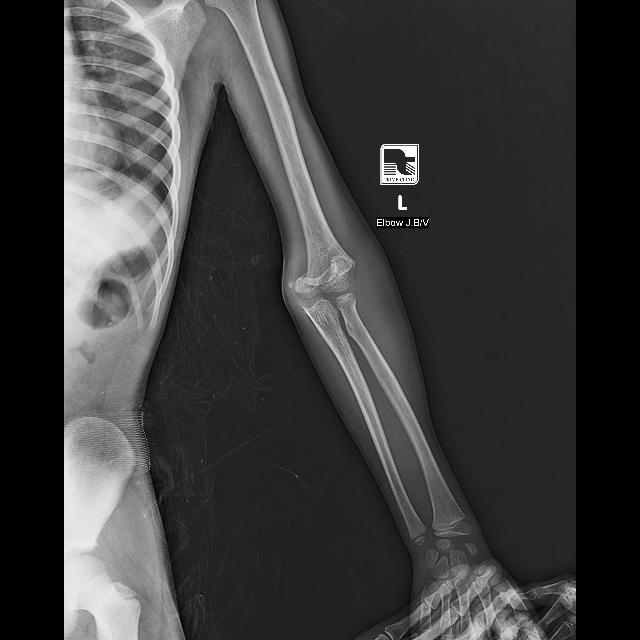Fracture: (285, 251, 359, 300)
